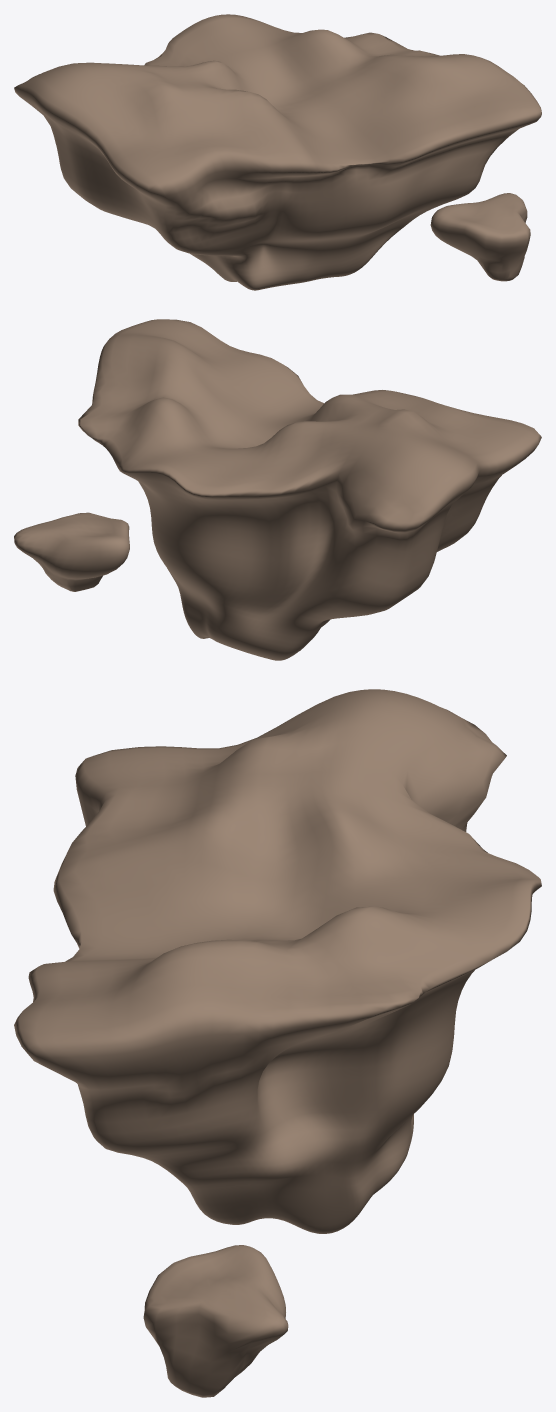
The model's file is Island3-1.fbx.
The picture shows the model from 3 angles, top to bottom: view 1: azimuth 30°, elevation 25°; view 2: azimuth 150°, elevation 25°; view 3: azimuth 270°, elevation 25°; orthographic projection. The views are drawn at different scales.
Parts seen in each view (by area): view 1: pCube1, pCube2; view 2: pCube1, pCube2; view 3: pCube1, pCube2.
Boxes of the visible parts, bbox=[...] form: pCube1: bbox=[14, 14, 541, 290]; pCube2: bbox=[430, 193, 530, 281]; pCube1: bbox=[78, 319, 541, 660]; pCube2: bbox=[14, 512, 129, 591]; pCube1: bbox=[14, 689, 541, 1233]; pCube2: bbox=[143, 1245, 288, 1397].
Bounding box in the file's own units: 19.31 × 10.63 × 12.43.
